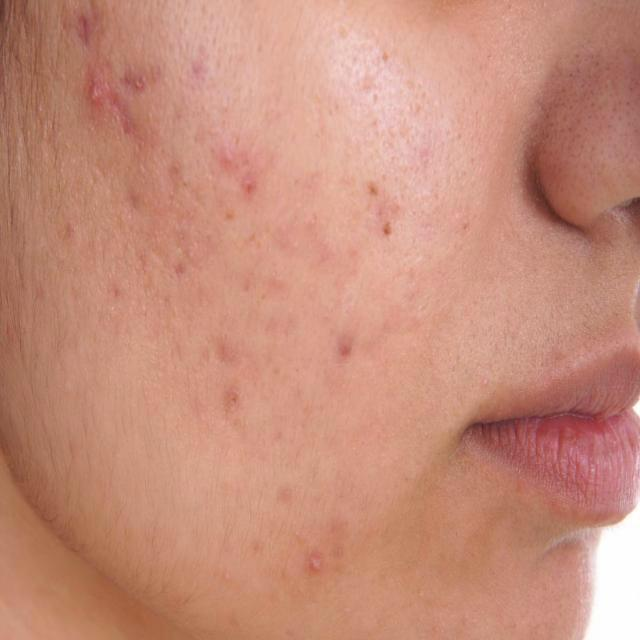Pimples: (64, 71, 112, 125), (122, 54, 163, 106), (61, 9, 93, 64)
